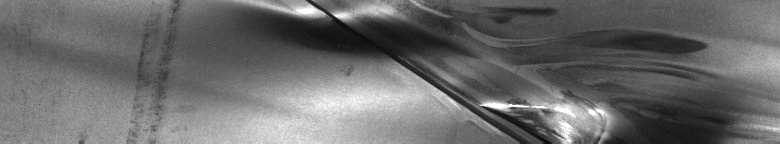ke: (139, 4, 776, 136)
